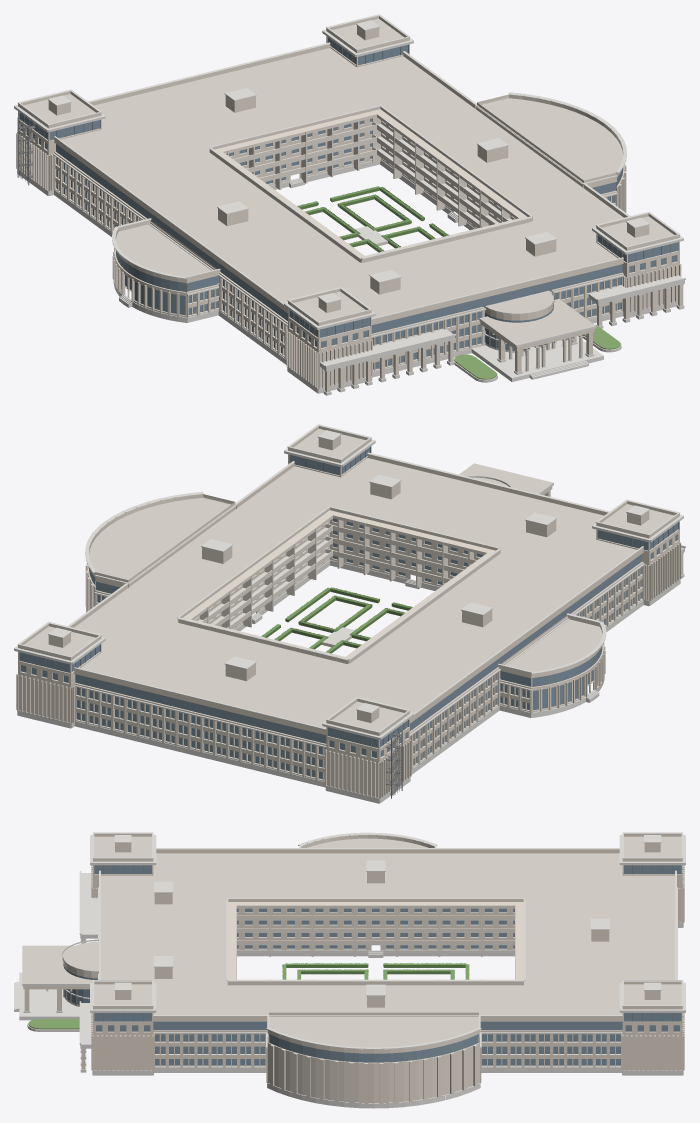
Rendered from Academic_Block.fbx.
3 views of the same model, one above another, from view 1: azimuth 30°, elevation 25°; view 2: azimuth 150°, elevation 25°; view 3: azimuth 270°, elevation 25° (orthographic).
Parts seen in each view (by area): view 1: Academic_Block; view 2: Academic_Block; view 3: Academic_Block.
Part boxes in pixels (x1,y1,x2,y2): Academic_Block: [14, 14, 685, 395]; Academic_Block: [14, 424, 685, 803]; Academic_Block: [14, 832, 685, 1108].
Bounding box in the file's own units: 138 × 21.05 × 168.
